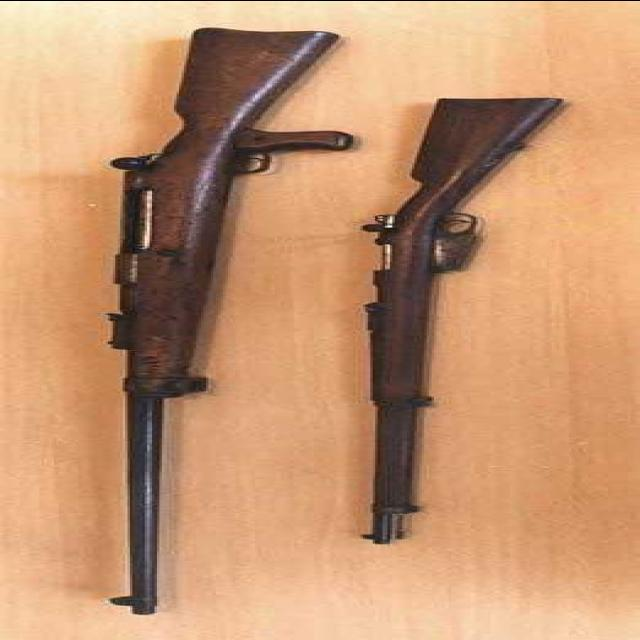heavyweapon: (1, 1, 344, 605), (315, 88, 605, 555)
